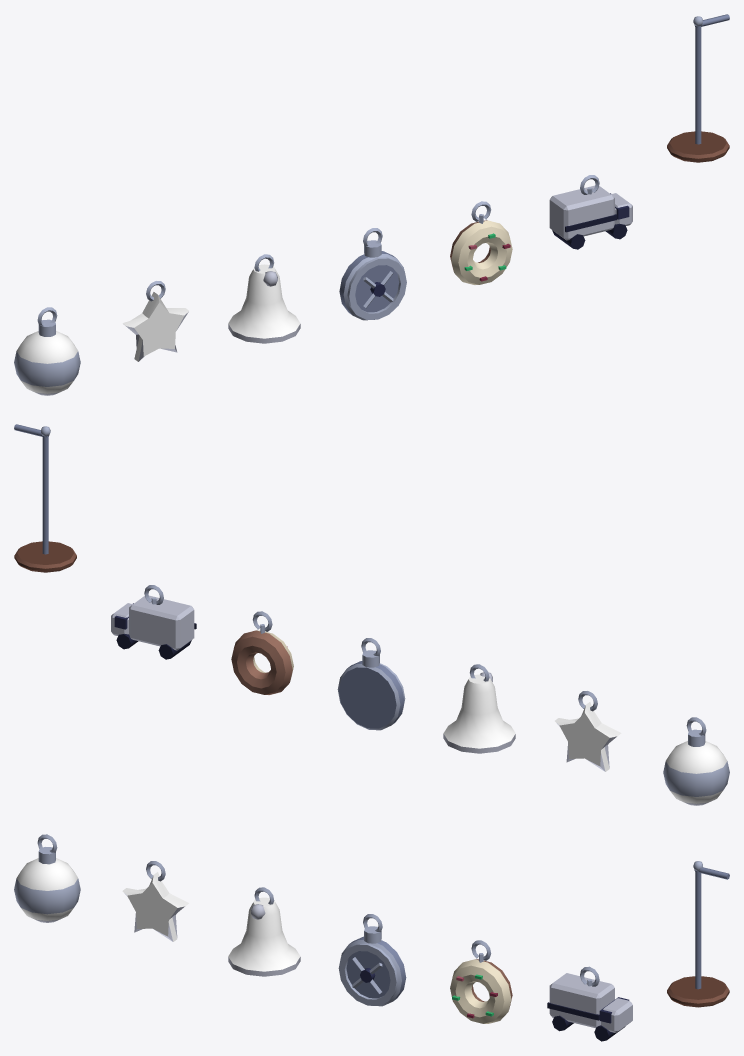
File: Ornaments.fbx
3 renders of one model, top to bottom at view 1: azimuth 30°, elevation 25°; view 2: azimuth 150°, elevation 25°; view 3: azimuth 330°, elevation 25°, orthographic.
Visible parts, largest first — view 1: Ornament_VaultDoor, Ornament_Van, Ornament_Bauble, Ornament_Bell, Ornament_Donut, Ornament_Stand, Ornament_Star; view 2: Ornament_VaultDoor, Ornament_Van, Ornament_Bauble, Ornament_Bell, Ornament_Donut, Ornament_Stand, Ornament_Star; view 3: Ornament_Van, Ornament_VaultDoor, Ornament_Bauble, Ornament_Bell, Ornament_Donut, Ornament_Stand, Ornament_Star.
Part boxes in pixels (<box>): Ornament_VaultDoor: <box>339,228,406,320</box>; Ornament_Van: <box>549,175,632,249</box>; Ornament_Bauble: <box>14,307,80,395</box>; Ornament_Bell: <box>228,254,300,343</box>; Ornament_Donut: <box>450,201,512,284</box>; Ornament_Stand: <box>667,14,729,162</box>; Ornament_Star: <box>122,281,188,361</box>; Ornament_VaultDoor: <box>337,638,405,730</box>; Ornament_Van: <box>111,585,196,659</box>; Ornament_Bauble: <box>663,717,729,805</box>; Ornament_Bell: <box>443,664,515,753</box>; Ornament_Donut: <box>231,611,293,694</box>; Ornament_Stand: <box>14,424,76,572</box>; Ornament_Star: <box>555,691,621,771</box>; Ornament_Van: <box>547,966,632,1041</box>; Ornament_VaultDoor: <box>338,914,406,1006</box>; Ornament_Bauble: <box>14,834,80,922</box>; Ornament_Bell: <box>228,887,300,976</box>; Ornament_Donut: <box>450,940,512,1023</box>; Ornament_Stand: <box>667,861,729,1007</box>; Ornament_Star: <box>122,861,188,941</box>.
Size of the model in its own units: 11.78 by 3.53 by 1.04.
Materials: 1 (1 with a texture image).
